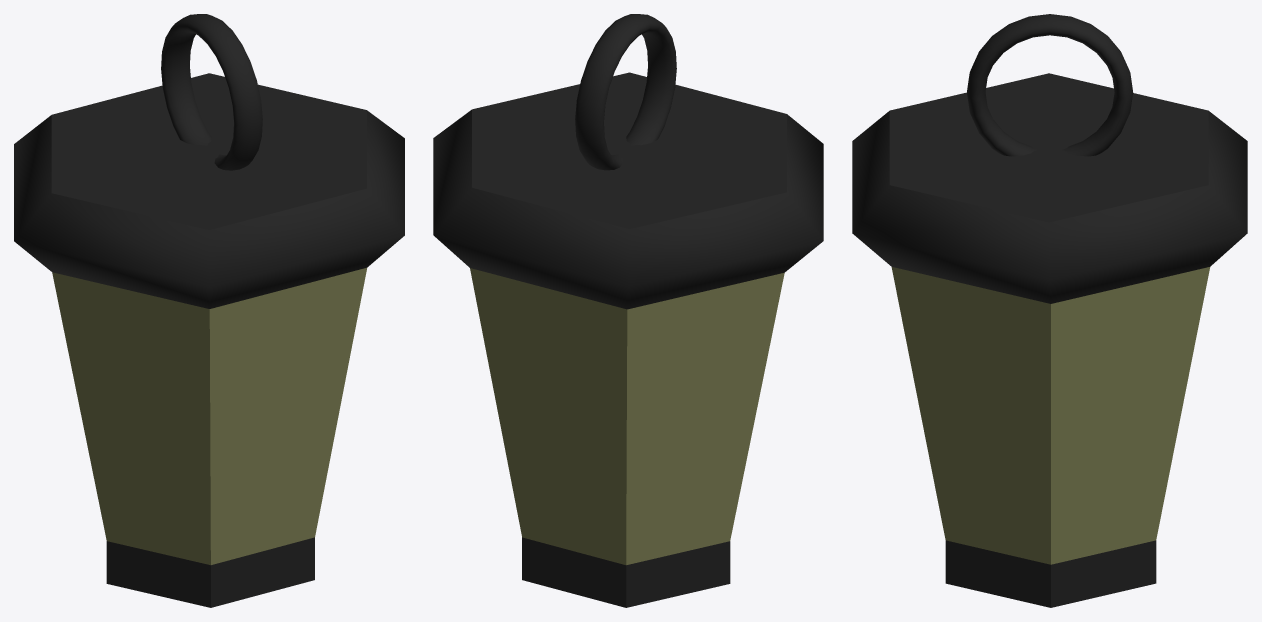
File: Metal Lantern.fbx
3 renders of one model, left to right at view 1: azimuth 30°, elevation 25°; view 2: azimuth 150°, elevation 25°; view 3: azimuth 270°, elevation 25°, orthographic.
Parts seen in each view (by area): view 1: Torus001; view 2: Torus001; view 3: Torus001.
Part boxes in pixels (bbox=[...]): Torus001: bbox=[14, 14, 404, 607]; Torus001: bbox=[433, 14, 823, 607]; Torus001: bbox=[852, 14, 1247, 607].
Bounding box in the file's own units: 71.54 × 94.32 × 61.97.
